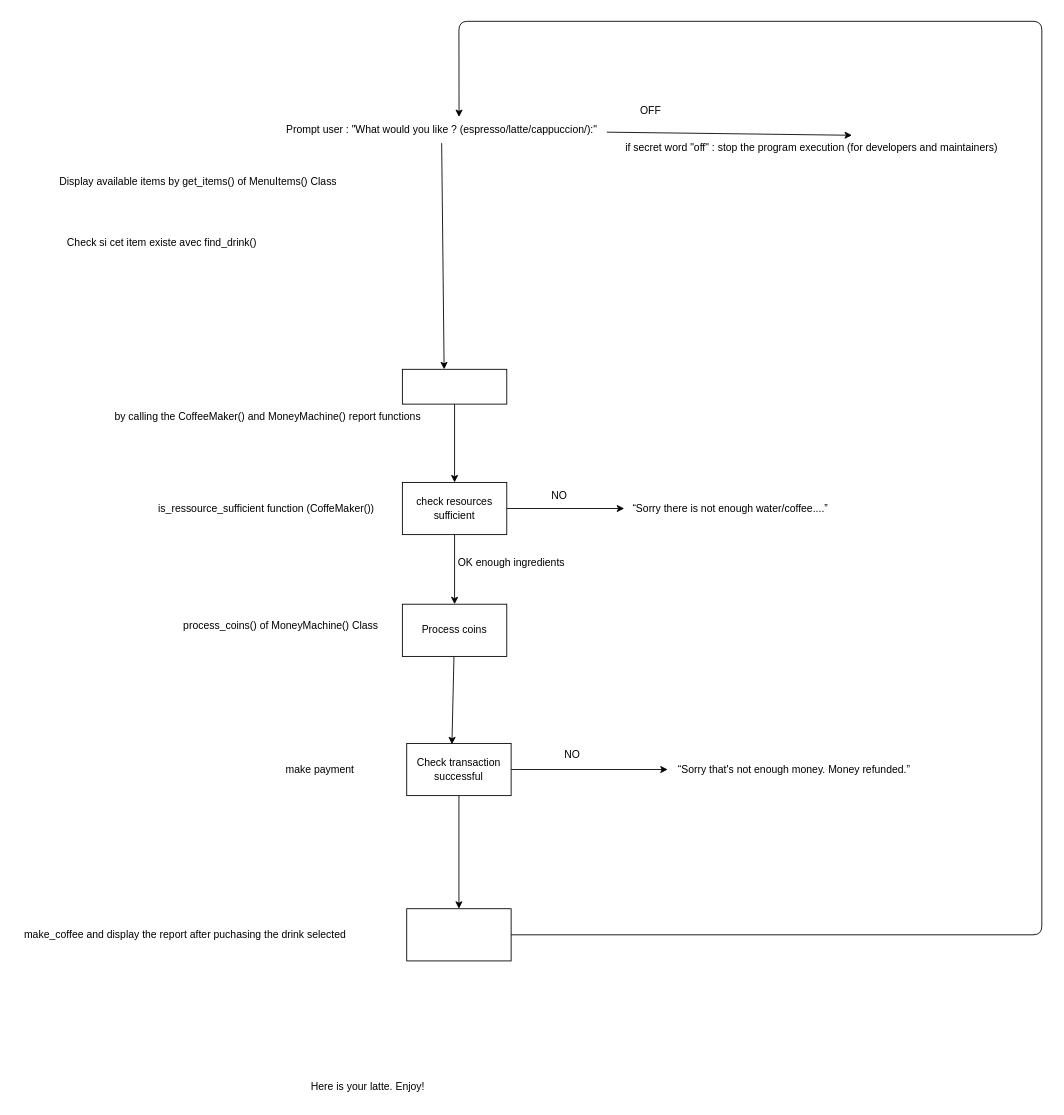
This 1064x1115 diagram has some shape labels left out. Here are the shapes that lost their labels. From the top down, the centre of each, then its label:
At (x=454, y=386): "print report of the ingredients and money".
At (x=458, y=934): "Make Coffee".
